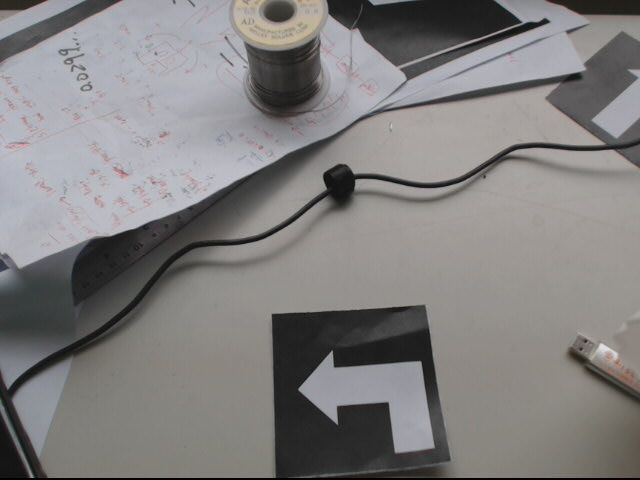left: (271, 305, 458, 468)
